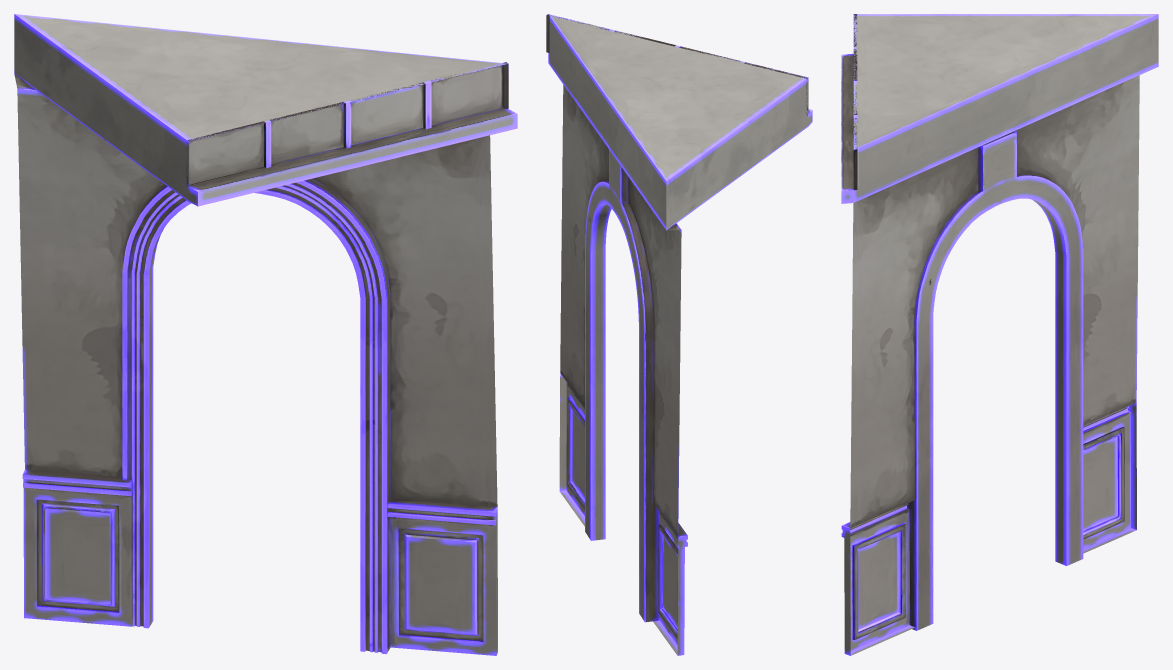
Rendered from esquina2.glb.
3 views of the same model, side by side, from view 1: azimuth 30°, elevation 25°; view 2: azimuth 150°, elevation 25°; view 3: azimuth 270°, elevation 25° (orthographic). The views are drawn at different scales.
Parts seen in each view (by area): view 1: ESQUINA; view 2: ESQUINA; view 3: ESQUINA.
Boxes of the visible parts, bbox=[...] form: ESQUINA: bbox=[14, 14, 517, 655]; ESQUINA: bbox=[546, 14, 812, 655]; ESQUINA: bbox=[841, 14, 1158, 655].
Size of what is drawn, in the model's own units: 4.34 by 7.41 by 4.12.
Materials: 1 (1 with a texture image).
